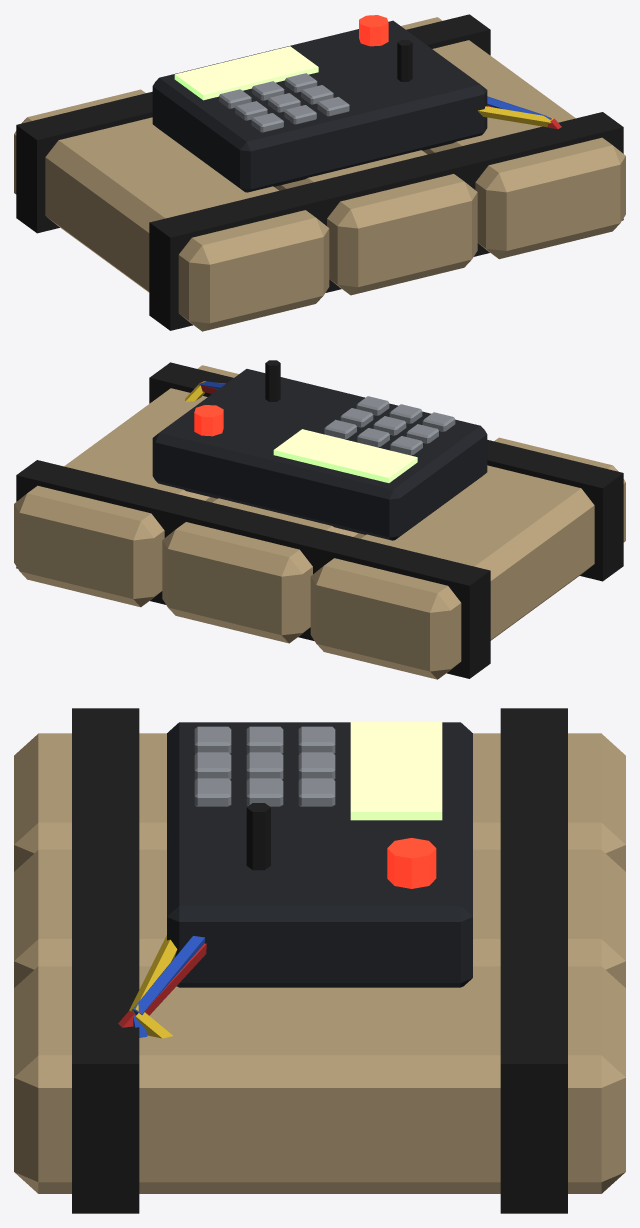
The picture shows the model from 3 angles, top to bottom: view 1: azimuth 30°, elevation 25°; view 2: azimuth 150°, elevation 25°; view 3: azimuth 270°, elevation 25°; orthographic projection. The views are drawn at different scales.
Visible parts, largest first — view 1: c4; view 2: c4; view 3: c4.
Boxes of the visible parts, box(x1,y1,x2,y2) form: c4: box(14, 14, 625, 331); c4: box(14, 360, 625, 679); c4: box(14, 708, 625, 1213).
Size of the model in its own units: 0.275 by 0.101 by 0.2.
